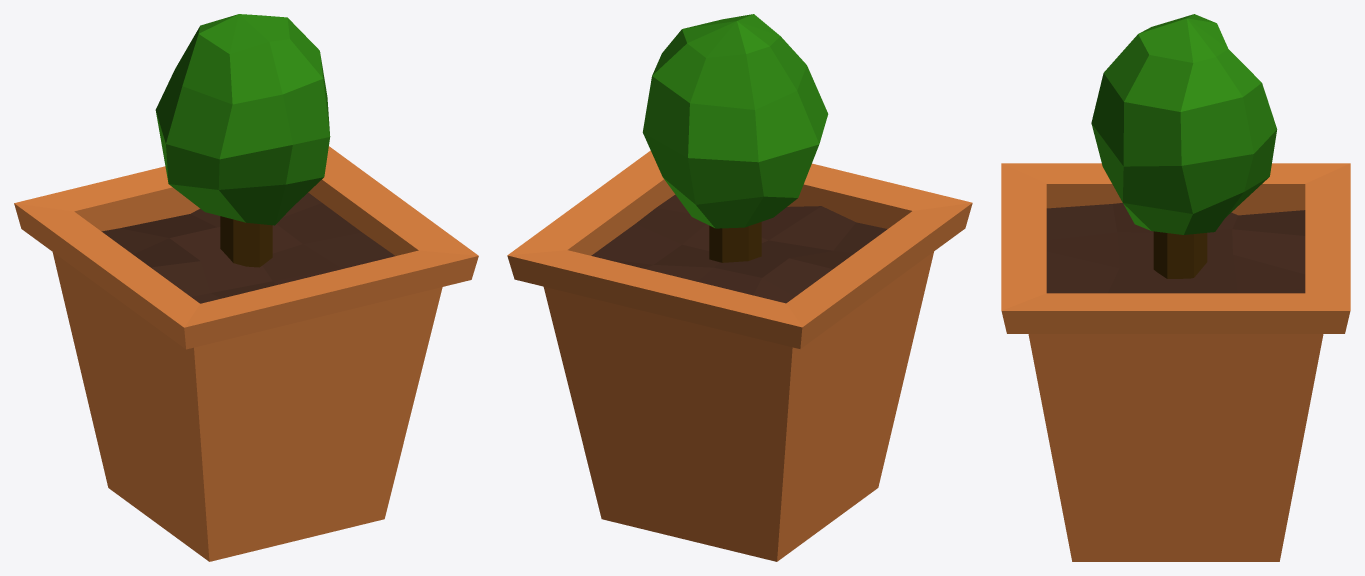
File: plant_small.fbx
The picture shows the model from 3 angles, left to right: view 1: azimuth 30°, elevation 25°; view 2: azimuth 150°, elevation 25°; view 3: azimuth 270°, elevation 25°; orthographic projection. The views are drawn at different scales.
Parts seen in each view (by area): view 1: H_Plant_Small; view 2: H_Plant_Small; view 3: H_Plant_Small.
Part boxes in pixels (left/top/right/bottom): H_Plant_Small: left=14, top=14, right=478, bottom=561; H_Plant_Small: left=507, top=14, right=972, bottom=561; H_Plant_Small: left=1001, top=14, right=1350, bottom=561.
Size of the model in its own units: 144 by 144 by 227.
